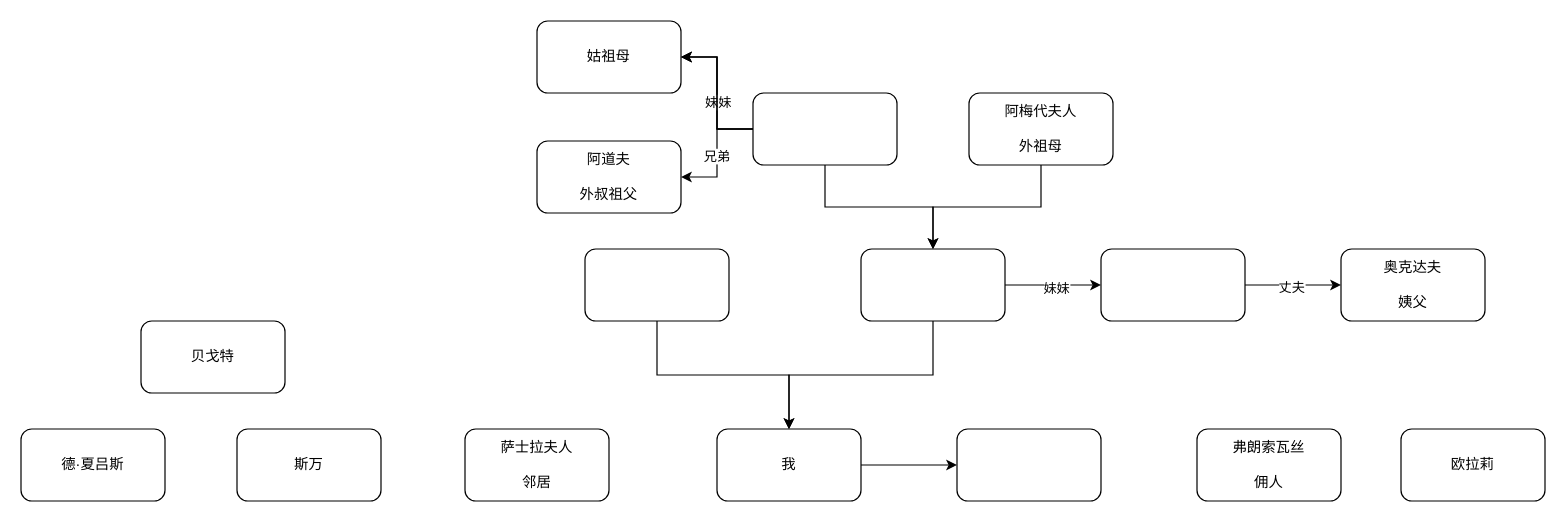
The diagram is 1566 pixels wide and 522 high, and some of its shapes have lost their labels. The centre of each missing label's shape, as x and y in pixels:
"外祖父" belongs at [824,128].
"奥莱妮 姨妈" belongs at [1172,284].
"布洛克 同学" belongs at [1028,464].
"母亲" belongs at [932,284].
"父亲" belongs at [656,284].
